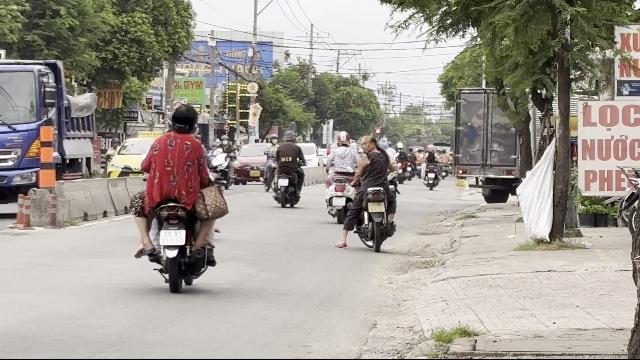licenseplate: (160, 230, 184, 246), (368, 202, 384, 212)
motorcyclist: (130, 100, 228, 292), (347, 132, 401, 250)
nohelmet: (168, 103, 198, 134), (358, 134, 378, 154)
